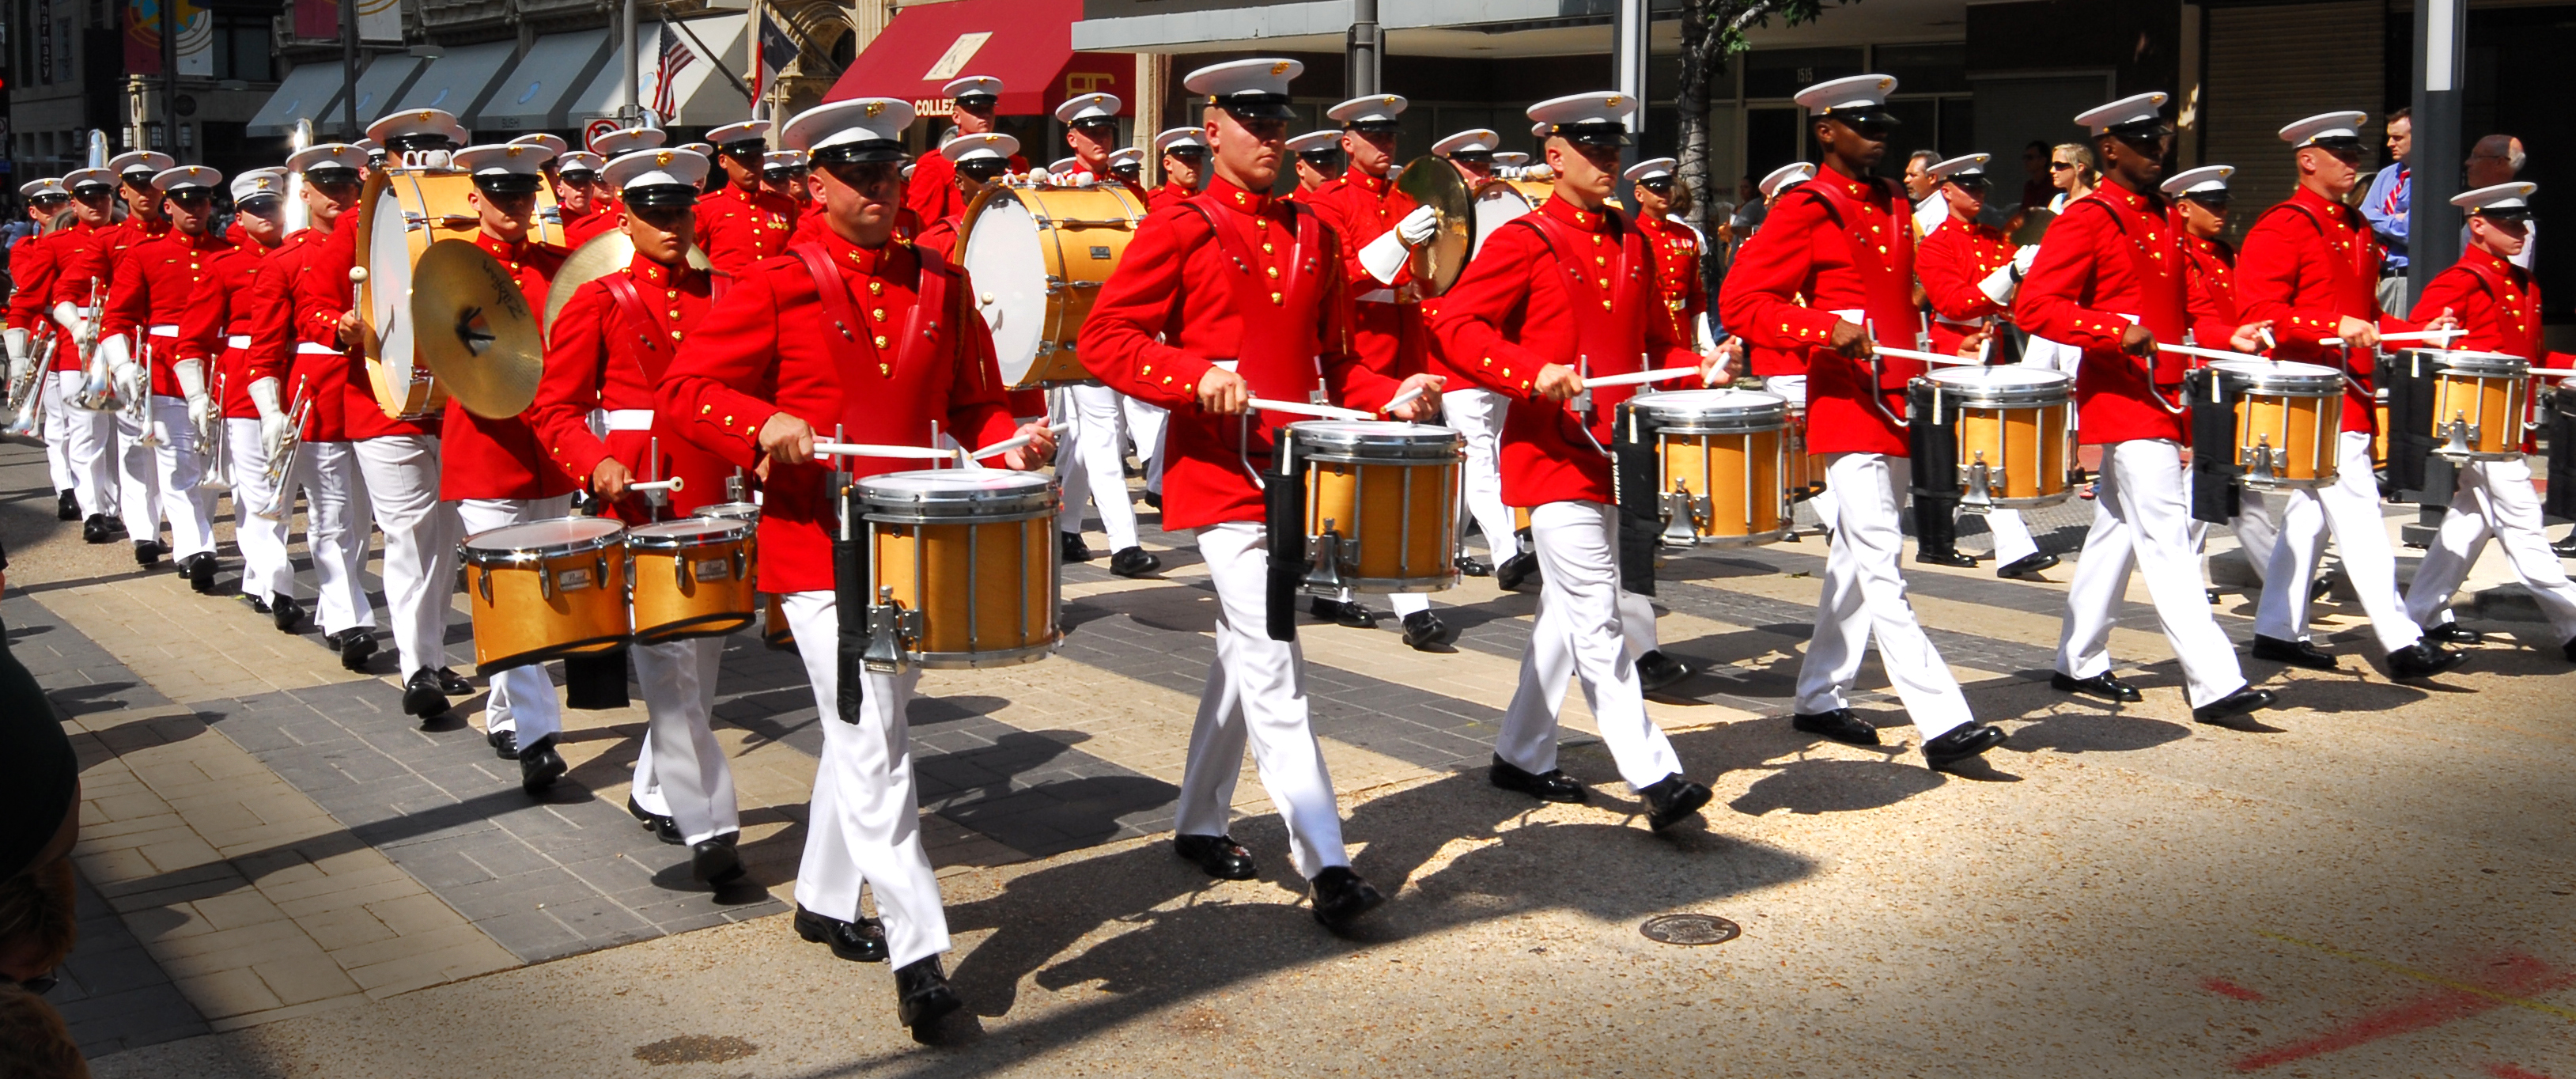feet: (764, 841, 1025, 1076), (1152, 757, 1400, 939), (1457, 683, 1738, 833), (1763, 634, 2031, 785), (2045, 601, 2284, 744), (609, 746, 794, 915), (2236, 595, 2479, 696), (467, 696, 606, 816), (2395, 568, 2576, 654), (376, 639, 483, 737), (1911, 509, 2067, 576), (1308, 585, 1456, 650), (1051, 499, 1165, 580), (306, 606, 391, 688), (53, 481, 128, 549), (240, 572, 312, 641), (163, 539, 238, 599)
